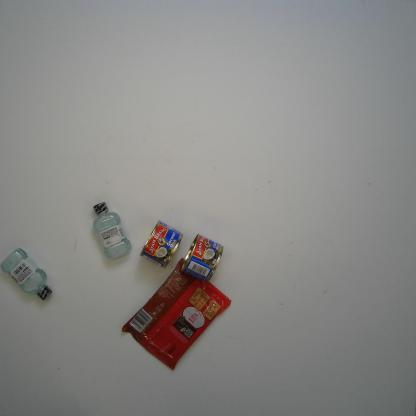Canned Food: (138, 219, 184, 270), (181, 233, 224, 282)
Dessert: (121, 257, 231, 371)
Personal Hygiene: (0, 248, 53, 302), (93, 201, 132, 261)
